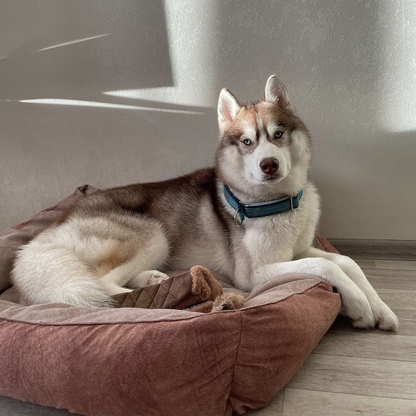husky: (6, 68, 405, 337)
